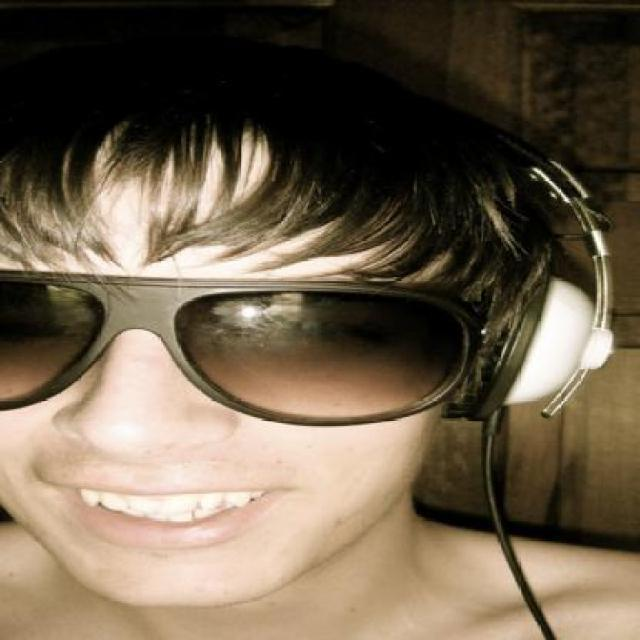earphone: (288, 41, 640, 401)
